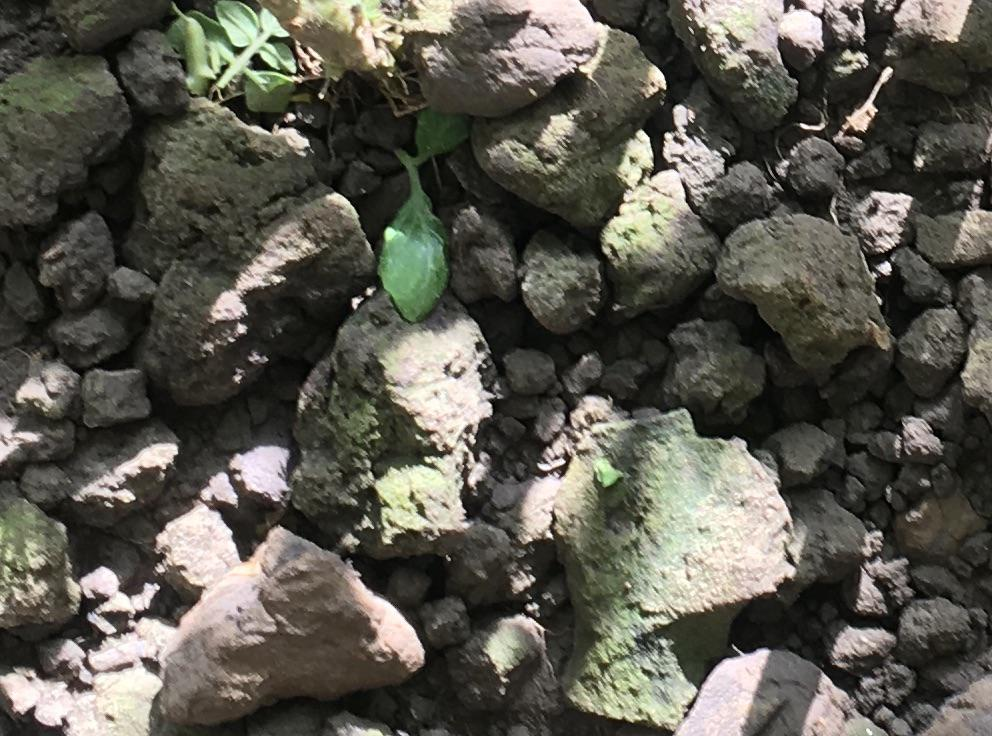block: (554, 416, 794, 732), (294, 279, 493, 558), (147, 528, 422, 726), (144, 187, 379, 409), (472, 23, 667, 232), (713, 213, 890, 372), (1, 56, 139, 232), (405, 1, 599, 118)
